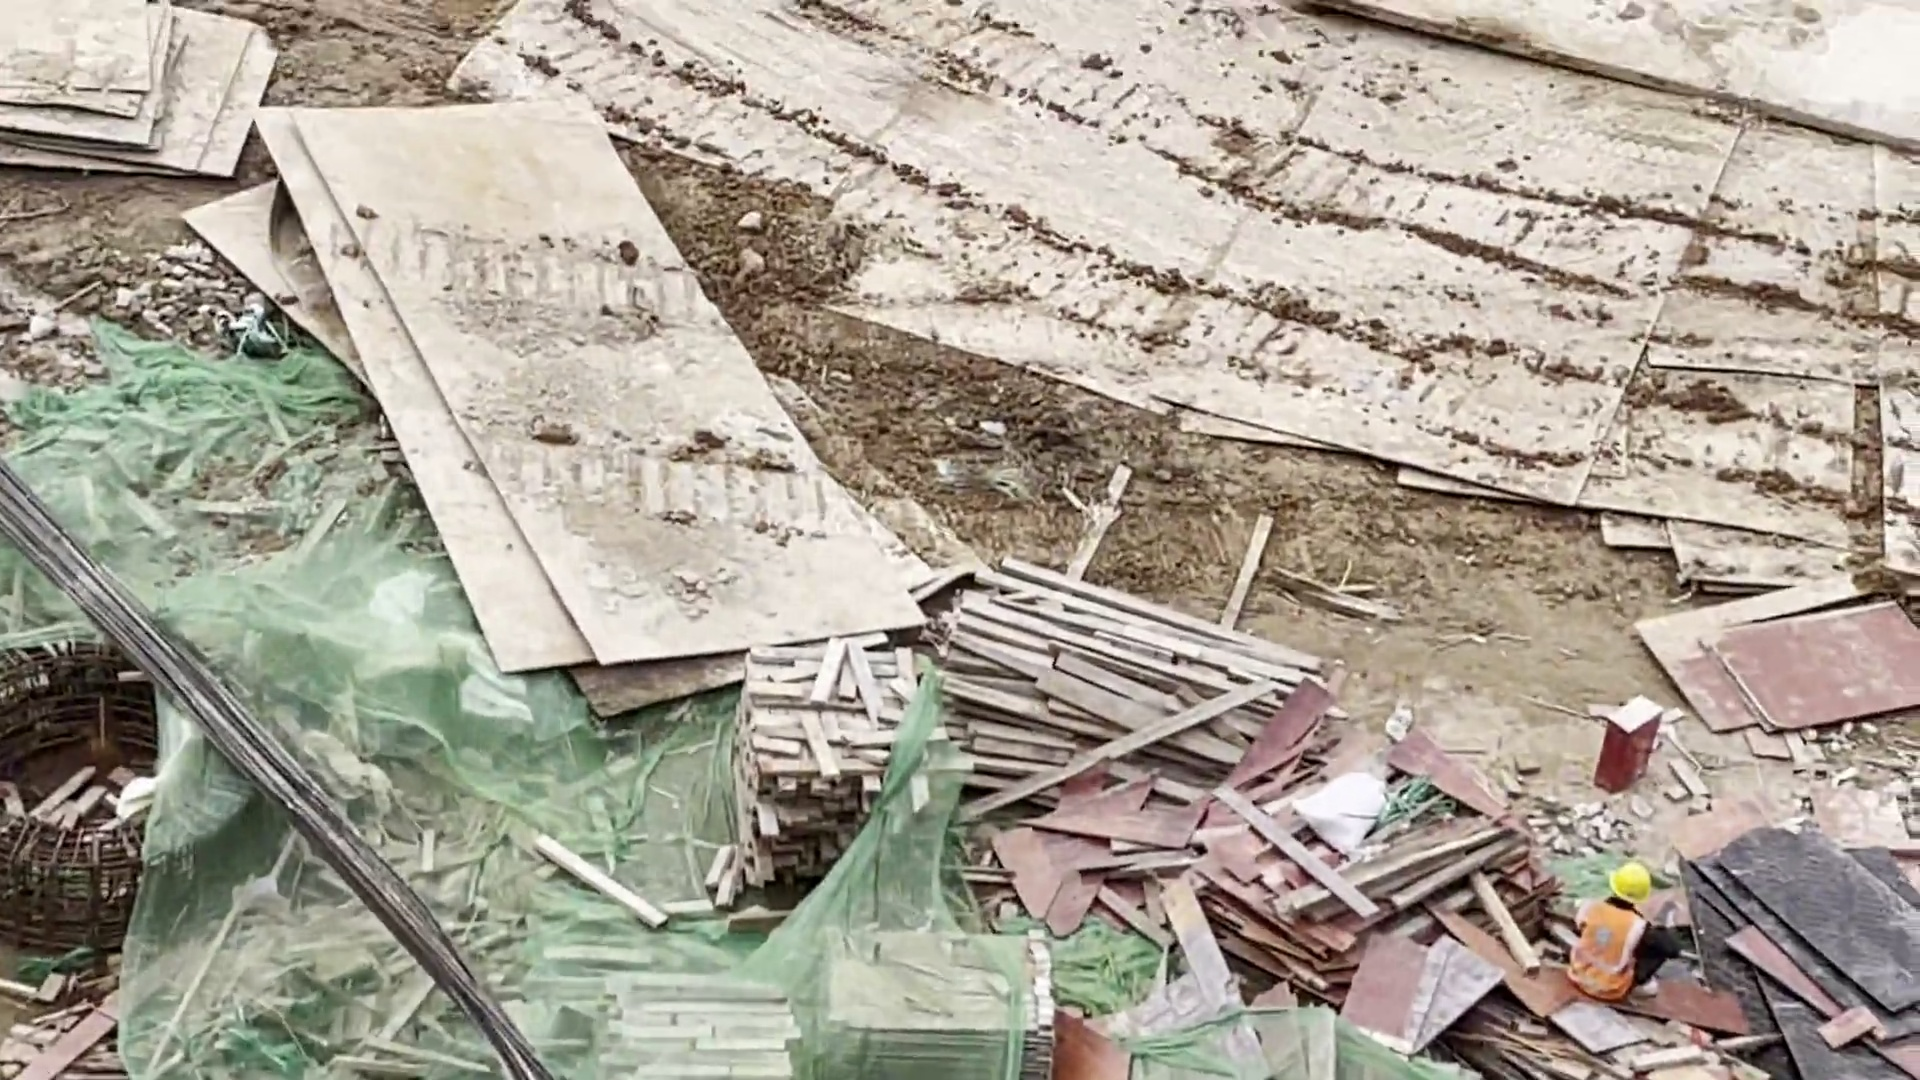helmet: (1611, 856, 1652, 906)
person: (1571, 856, 1666, 1009)
vest: (1571, 901, 1644, 1000)
